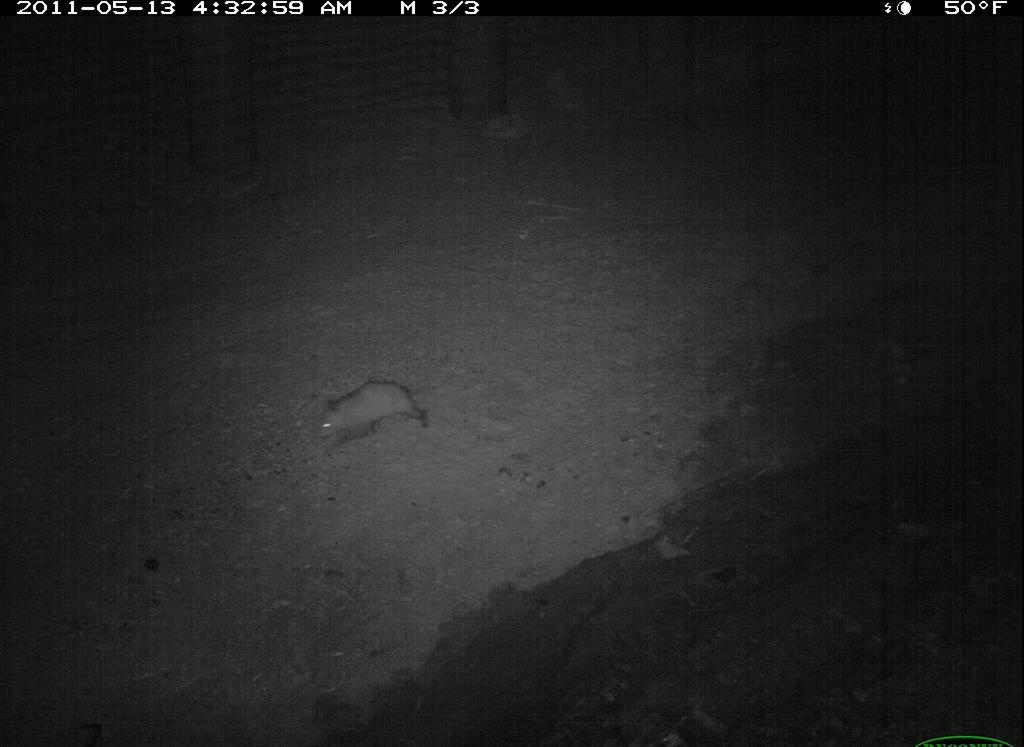opossum: (321, 377, 438, 459)
